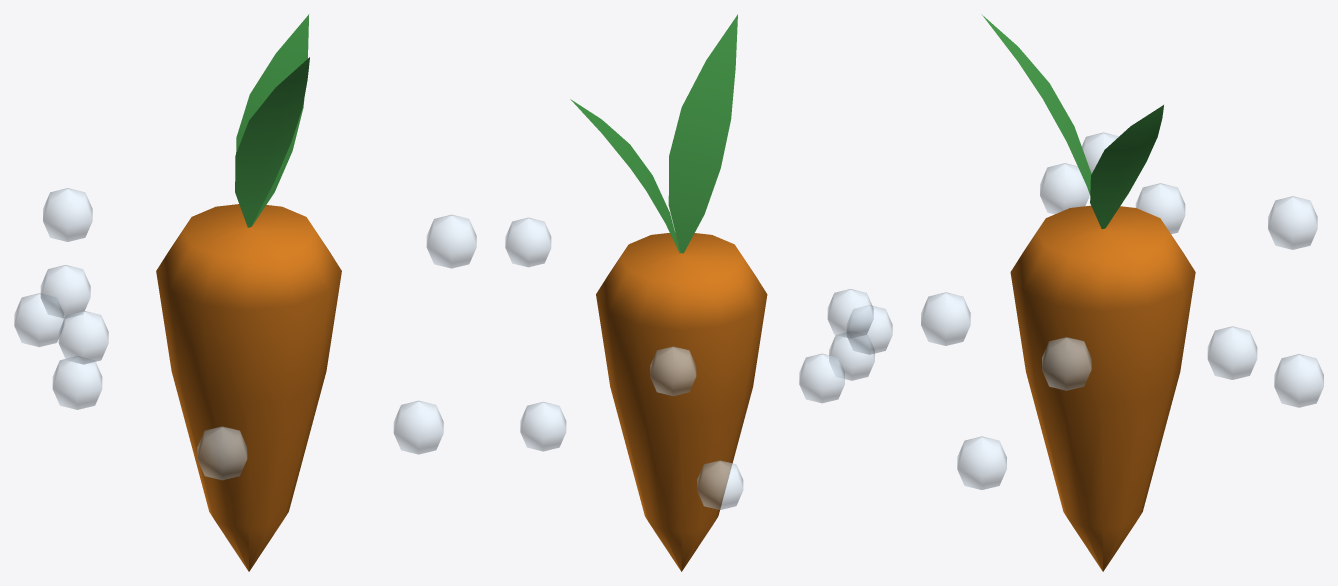
The model's file is fruit-carrot-wet.gltf.
The picture shows the model from 3 angles, left to right: view 1: azimuth 30°, elevation 25°; view 2: azimuth 150°, elevation 25°; view 3: azimuth 270°, elevation 25°; orthographic projection. The views are drawn at different scales.
Bounding box in the file's own units: 0.4806 × 0.6143 × 0.402.
